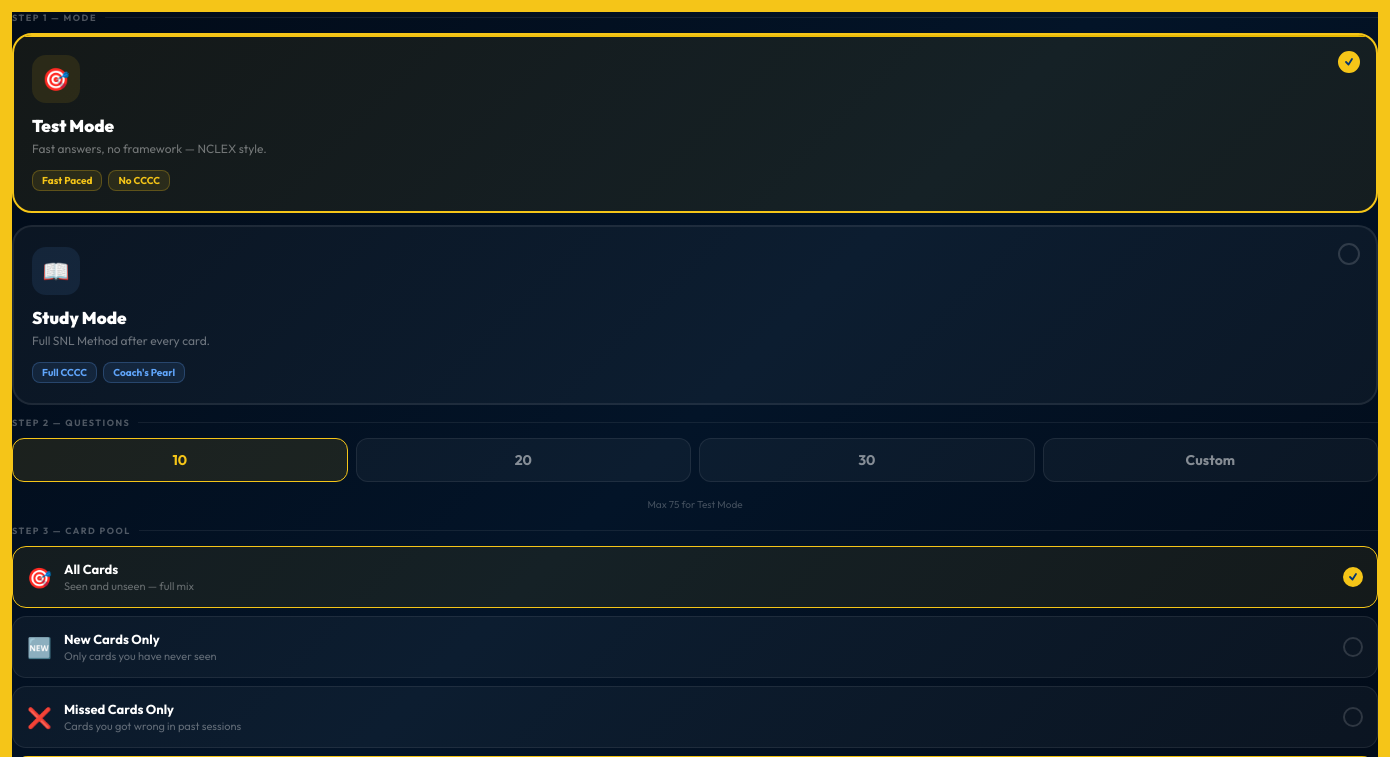
SessionSetup › renders limit note for study mode after switch
This screenshot has width=1390, height=757.
What coordinates should you click on to do the following:
click the text "Study Mode"
I would click on:
 (79, 318)
Its box is x1=32 y1=307 x2=127 y2=328.
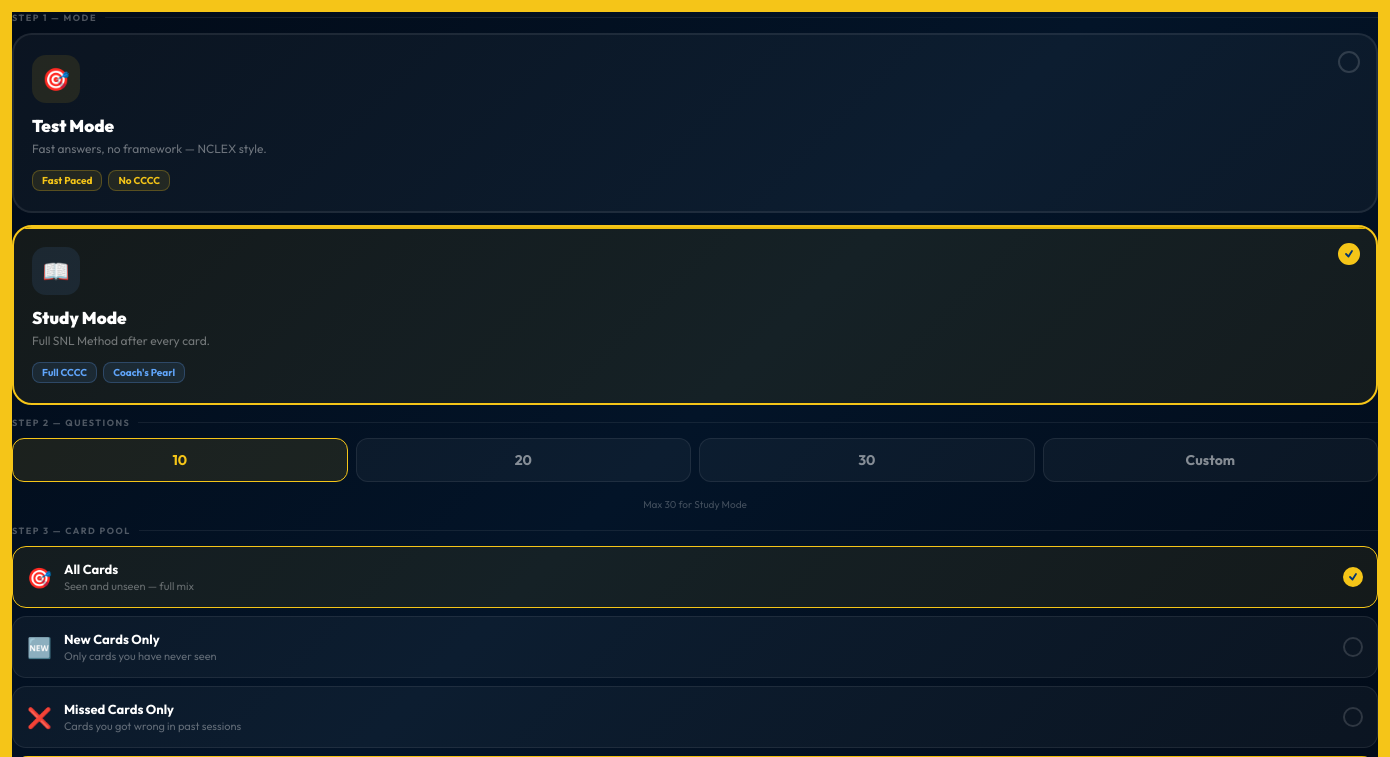
Expected: the text "Max 30 for Study Mode" is shown, x1=643 y1=498 x2=747 y2=511
